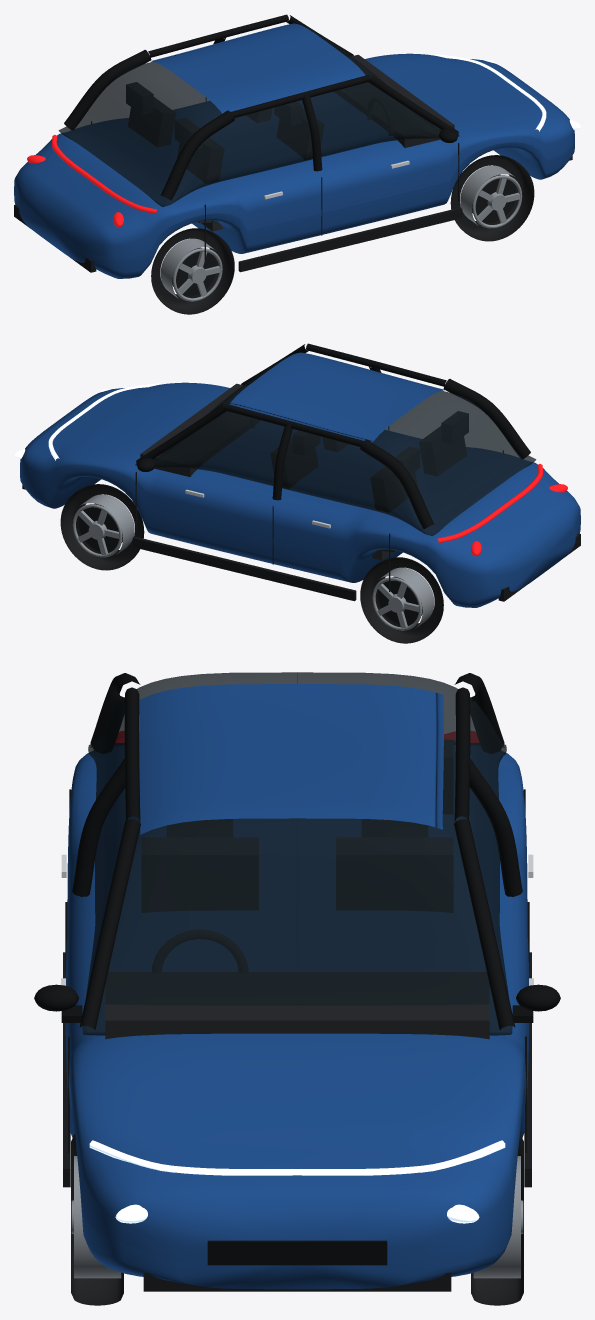
File: car.glb
The picture shows the model from 3 angles, top to bottom: view 1: azimuth 30°, elevation 25°; view 2: azimuth 150°, elevation 25°; view 3: azimuth 270°, elevation 25°; orthographic projection. The views are drawn at different scales.
Parts seen in each view (by area): view 1: Body__CarPaint, Glass__Glass, Roof__CarPaint, Roof__GlossBlack, Interior__SeatFabric, Interior__Dash, Trim__BlackTrim, Wheel_RL__Tyre, Wheel_FL__Tyre, Wheel_RL__Alloy, Wheel_FL__Alloy, Lamps__Taillamp (+3 smaller); view 2: Body__CarPaint, Glass__Glass, Roof__CarPaint, Roof__GlossBlack, Interior__SeatFabric, Interior__Dash, Trim__BlackTrim, Wheel_RR__Tyre, Wheel_FR__Tyre, Wheel_RR__Alloy, Wheel_FR__Alloy, Lamps__Taillamp (+3 smaller); view 3: Body__CarPaint, Glass__Glass, Roof__CarPaint, Interior__Dash, Interior__SeatFabric, Roof__GlossBlack, Trim__GlossBlack, Trim__BlackTrim, Lamps__Headlamp, Wheel_FR__Tyre, Wheel_FL__Tyre, Wheel_FR__Alloy (+1 smaller).
Boxes of the visible parts, x1,y1,x2,y2 form: Body__CarPaint: (14,53,574,278); Glass__Glass: (58,26,459,206); Roof__CarPaint: (150,23,365,113); Roof__GlossBlack: (64,14,458,200); Interior__SeatFabric: (126,82,323,231); Interior__Dash: (334,54,454,147); Trim__BlackTrim: (14,122,572,272); Wheel_RL__Tyre: (151,228,234,314); Wheel_FL__Tyre: (450,155,534,241); Wheel_RL__Alloy: (160,238,222,301); Wheel_FL__Alloy: (460,165,522,228); Lamps__Taillamp: (27,135,156,227); Body__CarPaint: (20,382,580,607); Glass__Glass: (135,355,536,535); Roof__CarPaint: (229,352,445,442); Roof__GlossBlack: (136,343,530,529); Interior__SeatFabric: (271,411,468,560); Interior__Dash: (140,383,260,476); Trim__BlackTrim: (22,451,580,601); Wheel_RR__Tyre: (360,557,443,643); Wheel_FR__Tyre: (60,484,144,570); Wheel_RR__Alloy: (372,567,434,630); Wheel_FR__Alloy: (72,494,134,557); Lamps__Taillamp: (438,464,567,556); Body__CarPaint: (65,741,529,1289); Glass__Glass: (82,672,512,1035); Roof__CarPaint: (139,684,443,834); Interior__Dash: (105,930,489,1039); Interior__SeatFabric: (142,740,452,912); Roof__GlossBlack: (72,673,522,1029); Trim__GlossBlack: (34,984,560,1265); Trim__BlackTrim: (63,789,531,1291); Lamps__Headlamp: (89,1140,505,1223); Wheel_FR__Tyre: (471,1134,523,1305); Wheel_FL__Tyre: (71,1134,123,1305); Wheel_FR__Alloy: (473,1156,523,1278).
Size of what is drawn, in the model's own units: 4.41 by 1.59 by 2.06.
